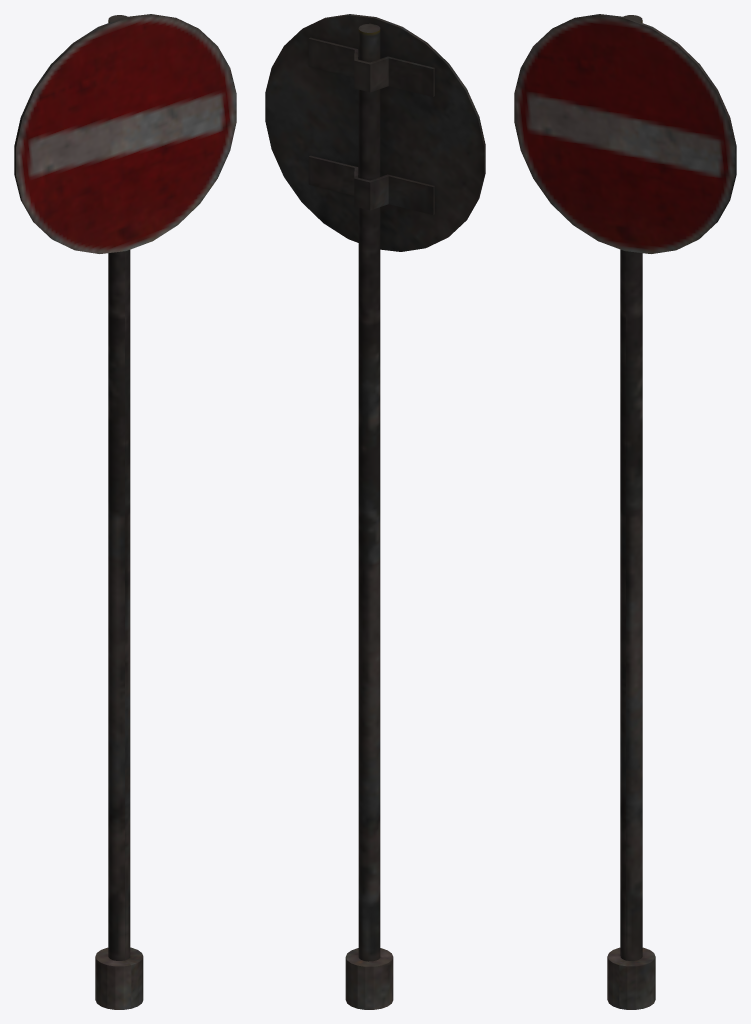
The model's file is ROAD SIGN 8.fbx.
3 renders of one model, left to right at view 1: azimuth 30°, elevation 25°; view 2: azimuth 150°, elevation 25°; view 3: azimuth 330°, elevation 25°, orthographic.
Parts seen in each view (by area): view 1: ROAD SIGN 8; view 2: ROAD SIGN 8; view 3: ROAD SIGN 8.
Part boxes in pixels (left/top/right/bottom): ROAD SIGN 8: left=14, top=14, right=236, bottom=1009; ROAD SIGN 8: left=265, top=14, right=485, bottom=1009; ROAD SIGN 8: left=514, top=14, right=736, bottom=1009.
Size of the model in its own units: 80.37 by 343 by 15.15.
